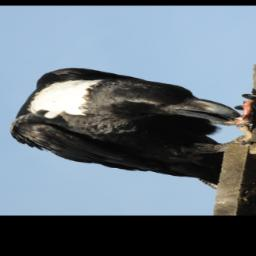Crow: (0, 64, 256, 190)
